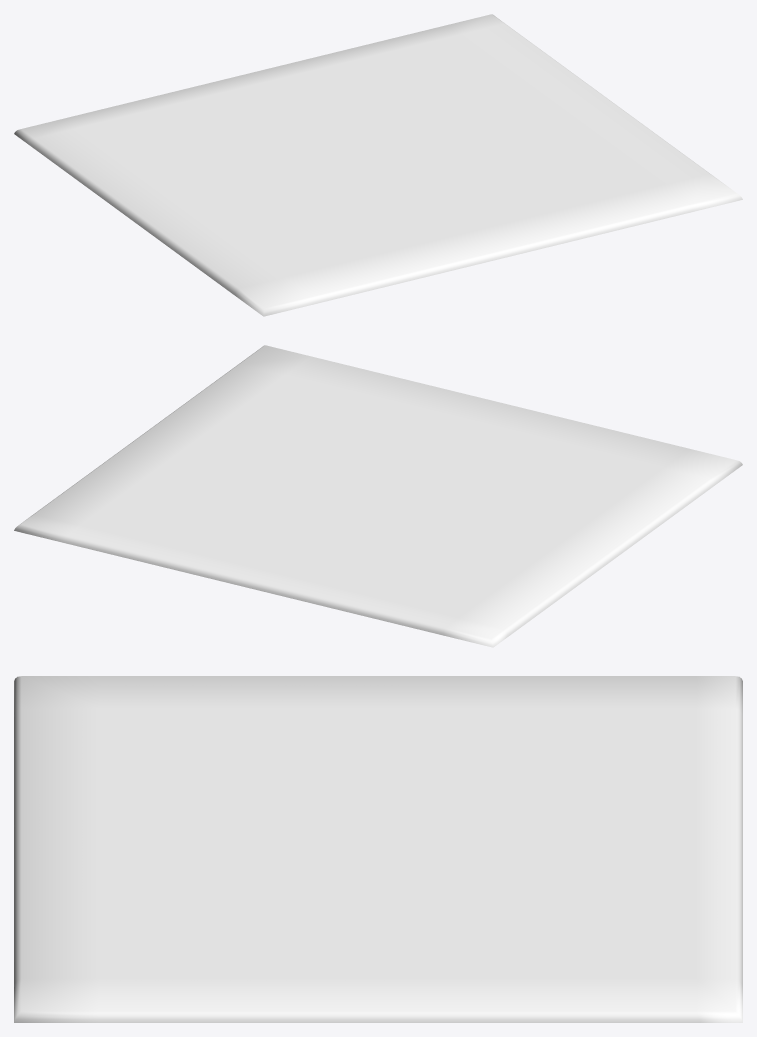
File: Platform_Huge.fbx
The picture shows the model from 3 angles, top to bottom: view 1: azimuth 30°, elevation 25°; view 2: azimuth 150°, elevation 25°; view 3: azimuth 270°, elevation 25°; orthographic projection. The views are drawn at different scales.
Parts seen in each view (by area): view 1: Plane.005; view 2: Plane.005; view 3: Plane.005.
Part boxes in pixels (box(x1,y1,x2,y2)): Plane.005: box(14, 14, 742, 316); Plane.005: box(14, 345, 742, 647); Plane.005: box(14, 676, 742, 1022).
Bounding box in the file's own units: 3693 × 42.22 × 3332.
